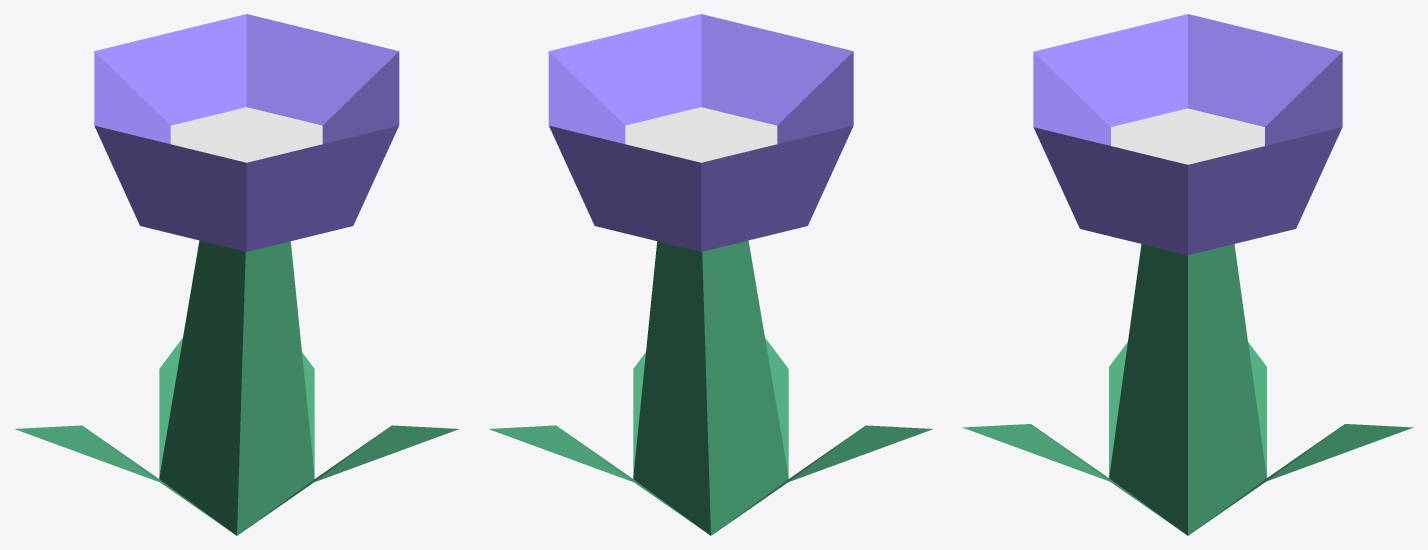
Rendered from flower_purple.glb.
3 views of the same model, side by side, from view 1: azimuth 30°, elevation 25°; view 2: azimuth 150°, elevation 25°; view 3: azimuth 270°, elevation 25° (orthographic).
Visible parts, largest first — view 1: flower_purple; view 2: flower_purple; view 3: flower_purple.
Boxes of the visible parts, left/top/right/bottom form: flower_purple: left=15, top=14, right=458, bottom=535; flower_purple: left=489, top=14, right=932, bottom=535; flower_purple: left=962, top=14, right=1413, bottom=535.
Bounding box in the file's own units: 0.1806 × 0.1825 × 0.1811.
